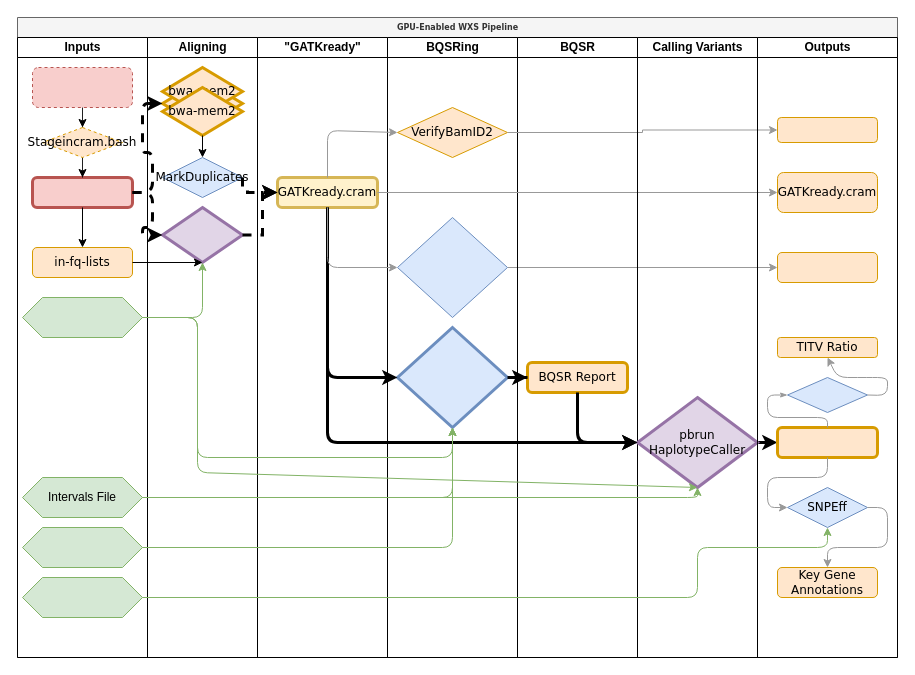
The diagram is 915 pixels wide and 675 high, and some of its shapes have lost their labels. Each missing label, with the centre of its shape:
BaseRecalibrator Spark: the point at 452,377
CollectVariant CallingMetrics: the point at 827,394
Coverage Report: the point at 827,267
FREEMIX: the point at 827,129
Keygenes.bed: the point at 82,597
Known Sites: the point at 82,547
pbrun fq2bam: the point at 202,235
Raw CRAMs Sample Map Original FASTA: the point at 82,87
Raw FASTQs Sample Map: the point at 82,192
Reference FASTA: the point at 82,317
Sample gVCF: the point at 827,442
WGSMetrics + RawWGSMetrics: the point at 452,267
